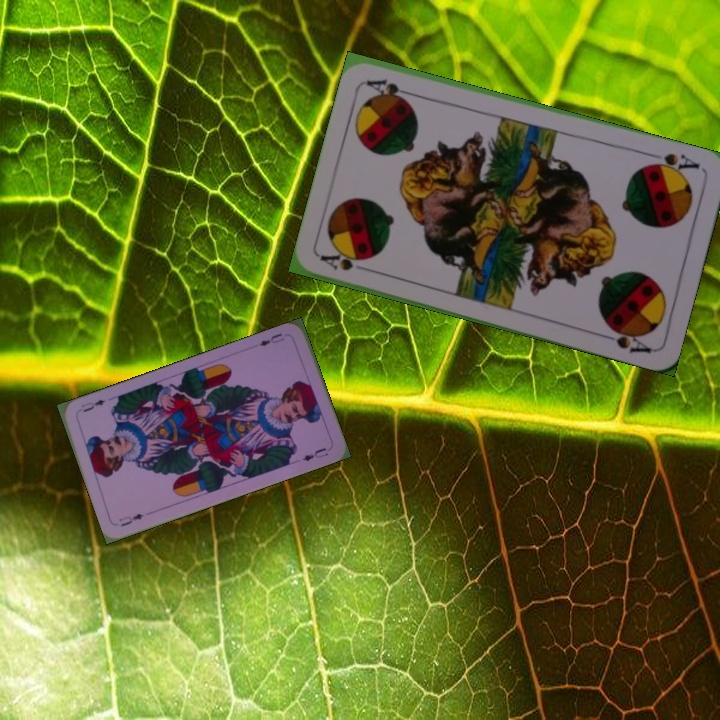EU: (255, 329, 286, 349), (115, 509, 146, 529)
SA: (643, 149, 702, 178), (316, 248, 375, 275)
